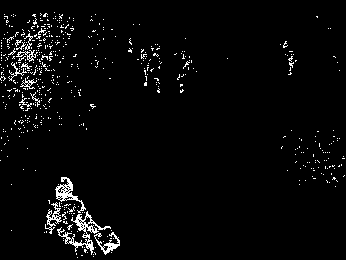person: (46, 176, 120, 254)
